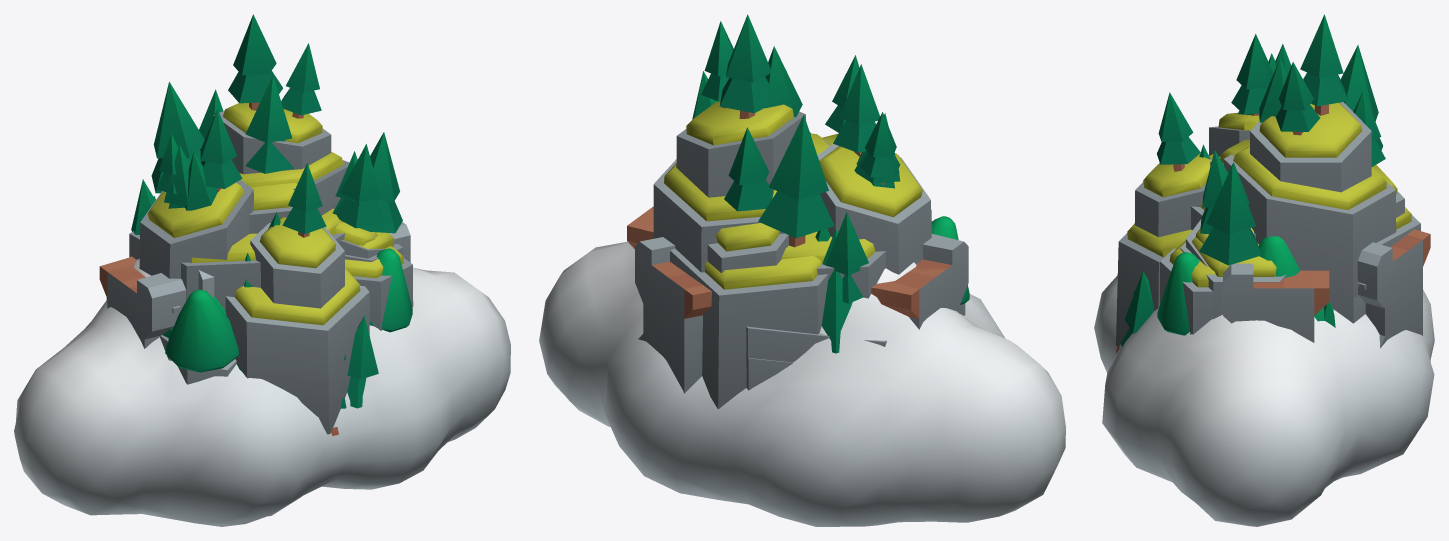
Rendered from naturaleza.glb.
3 views of the same model, side by side, from view 1: azimuth 30°, elevation 25°; view 2: azimuth 150°, elevation 25°; view 3: azimuth 270°, elevation 25° (orthographic). The views are drawn at different scales.
Visible parts, largest first — view 1: cloud_big, mountain_C, mountain_C_grass_trees, mountain_B_grass_trees, mountain_A_grass_trees, mountain_A_grass, trees_B_large, wall_straight, mountain_B, trees_A_large, wall_corner_A_outside; view 2: cloud_big, mountain_C, mountain_C_grass_trees, mountain_B_grass_trees, wall_corner_A_outside, mountain_B, mountain_A_grass_trees, mountain_A_grass, wall_straight, hills_C_trees; view 3: cloud_big, mountain_B, mountain_B_grass_trees, mountain_C_grass_trees, mountain_C, wall_corner_A_outside, mountain_A_grass_trees, wall_straight, mountain_A_grass, trees_B_large, trees_A_large, trees_B_medium.
Part boxes in pixels (bbox=[...]): cloud_big: bbox=[14, 259, 510, 526]; mountain_C: bbox=[139, 180, 385, 434]; mountain_C_grass_trees: bbox=[147, 89, 377, 325]; mountain_B_grass_trees: bbox=[131, 14, 394, 249]; mountain_A_grass_trees: bbox=[151, 75, 402, 233]; mountain_A_grass: bbox=[129, 182, 413, 330]; trees_B_large: bbox=[165, 248, 412, 372]; wall_straight: bbox=[99, 222, 410, 348]; mountain_B: bbox=[106, 110, 403, 360]; trees_A_large: bbox=[163, 316, 378, 408]; wall_corner_A_outside: bbox=[102, 256, 168, 336]; cloud_big: bbox=[539, 241, 1065, 526]; mountain_C: bbox=[670, 144, 965, 409]; mountain_C_grass_trees: bbox=[704, 55, 922, 289]; mountain_B_grass_trees: bbox=[664, 14, 899, 303]; wall_corner_A_outside: bbox=[635, 237, 968, 393]; mountain_B: bbox=[653, 111, 886, 389]; mountain_A_grass_trees: bbox=[692, 46, 900, 247]; mountain_A_grass: bbox=[748, 133, 931, 390]; wall_straight: bbox=[627, 206, 963, 329]; hills_C_trees: bbox=[821, 229, 852, 353]; cloud_big: bbox=[1094, 275, 1434, 526]; mountain_B: bbox=[1180, 102, 1396, 323]; mountain_B_grass_trees: bbox=[1191, 14, 1386, 276]; mountain_C_grass_trees: bbox=[1127, 34, 1411, 257]; mountain_C: bbox=[1116, 126, 1420, 346]; wall_corner_A_outside: bbox=[1357, 229, 1430, 348]; mountain_A_grass_trees: bbox=[1199, 45, 1382, 265]; wall_straight: bbox=[1223, 263, 1329, 342]; mountain_A_grass: bbox=[1160, 139, 1365, 334]; trees_B_large: bbox=[1133, 252, 1333, 335]; trees_A_large: bbox=[1120, 271, 1335, 346]; trees_B_medium: bbox=[1259, 236, 1300, 277].
Bounding box in the file's own units: 3.61 × 3.41 × 2.24.
1 material, 1 textured.
